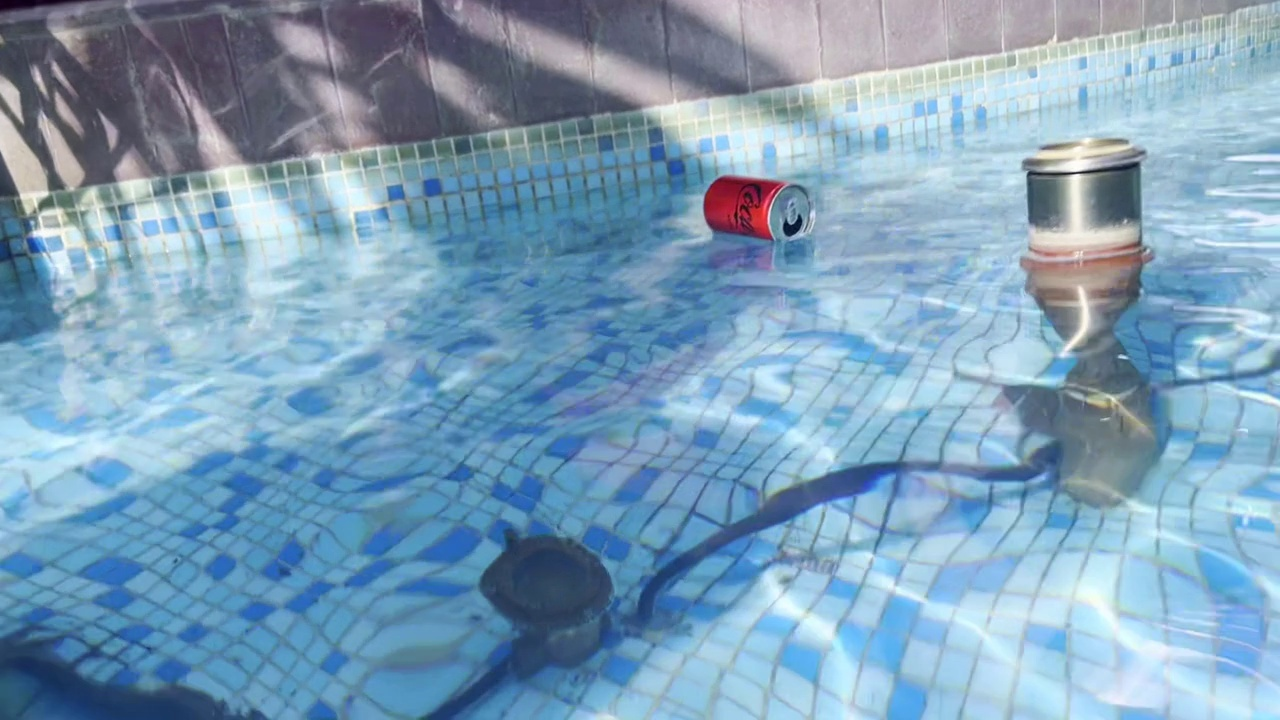debris: (699, 166, 821, 244)
